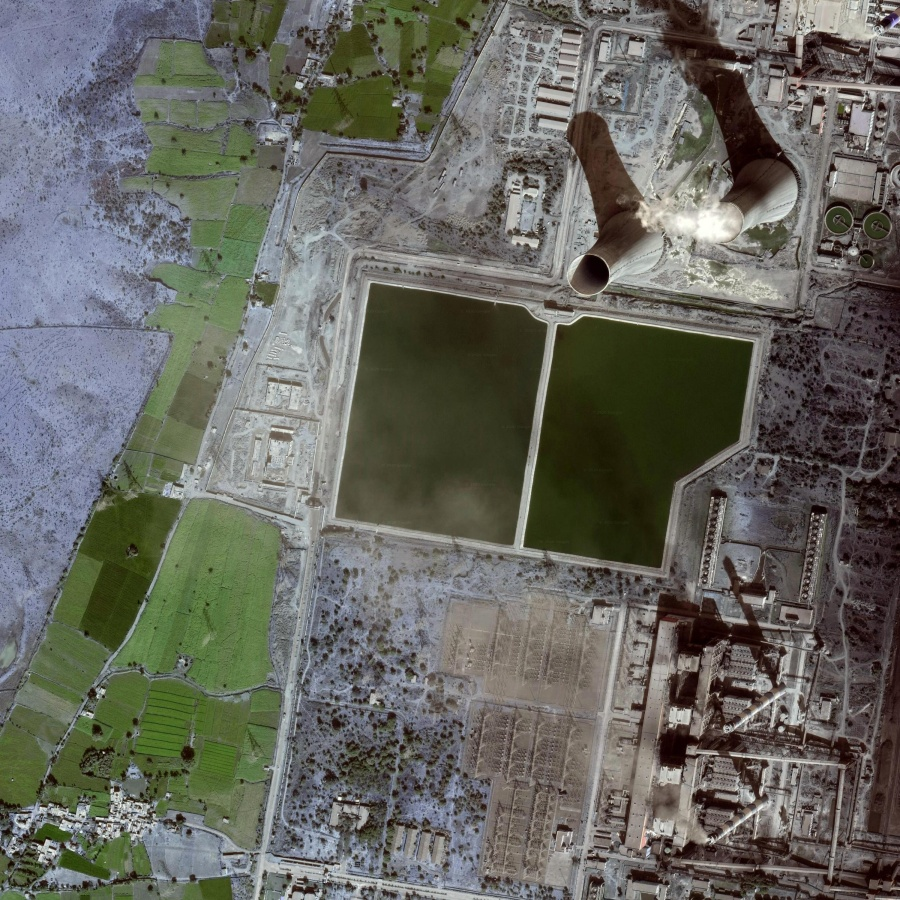PowerPlant: (322, 278, 760, 586)
